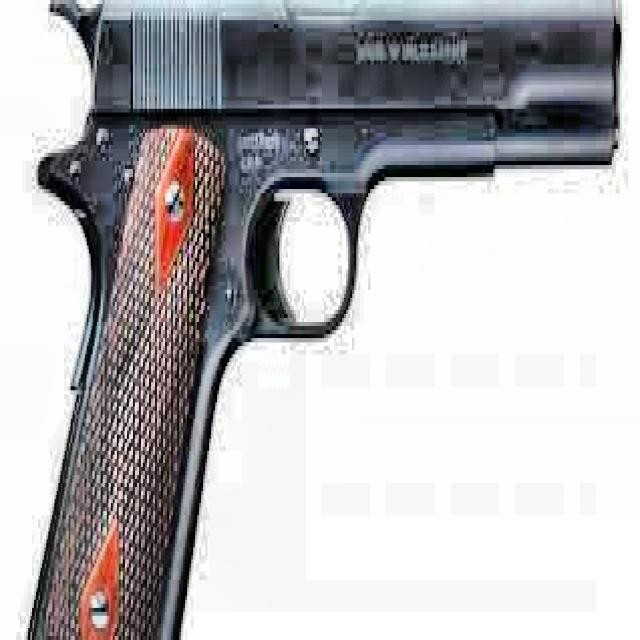Colt m1911: (18, 0, 624, 636)
